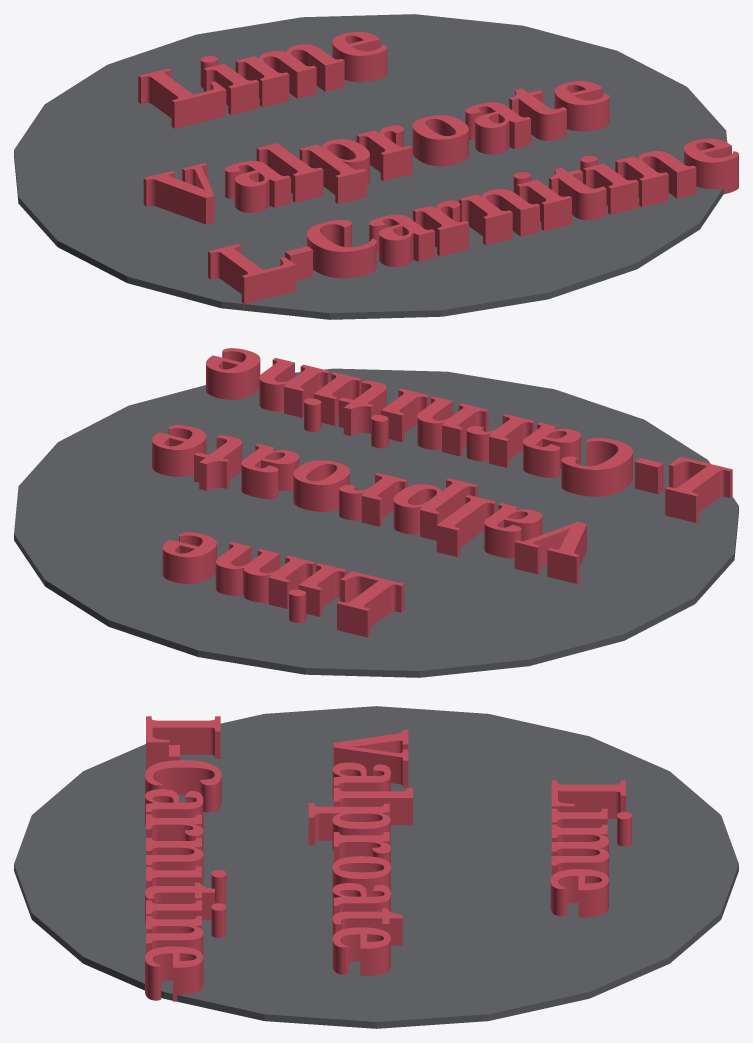
The model's file is denver.gltf.
3 renders of one model, top to bottom at view 1: azimuth 30°, elevation 25°; view 2: azimuth 150°, elevation 25°; view 3: azimuth 270°, elevation 25°, orthographic. The views are drawn at different scales.
Visible parts, largest first — view 1: Mesh_Mesh_head_geo001_lambert2SG001; view 2: Mesh_Mesh_head_geo001_lambert2SG001; view 3: Mesh_Mesh_head_geo001_lambert2SG001.
Boxes of the visible parts, x1,y1,x2,y2 form: Mesh_Mesh_head_geo001_lambert2SG001: (14,14,738,319); Mesh_Mesh_head_geo001_lambert2SG001: (14,348,738,677); Mesh_Mesh_head_geo001_lambert2SG001: (14,706,738,1028).
Size of the model in its own units: 199 by 10 by 193.
